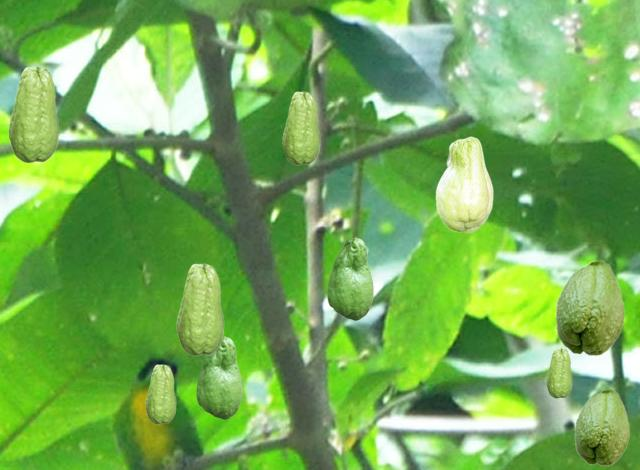sayote: (555, 259, 624, 355), (435, 136, 492, 232), (8, 66, 58, 162), (176, 263, 223, 355), (574, 388, 629, 465), (196, 336, 241, 418), (327, 237, 372, 319), (282, 91, 319, 164), (145, 364, 175, 423), (546, 348, 571, 397)
